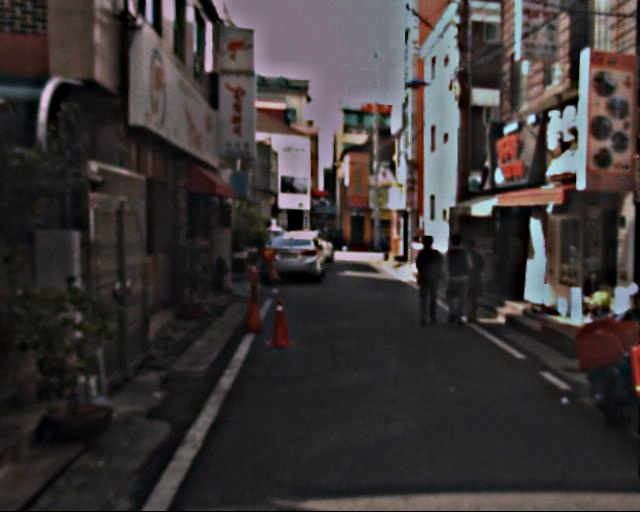person: (413, 234, 452, 328), (441, 233, 480, 327), (459, 236, 494, 322)
